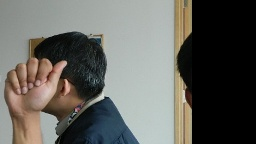Pugno: (1, 55, 70, 121)
